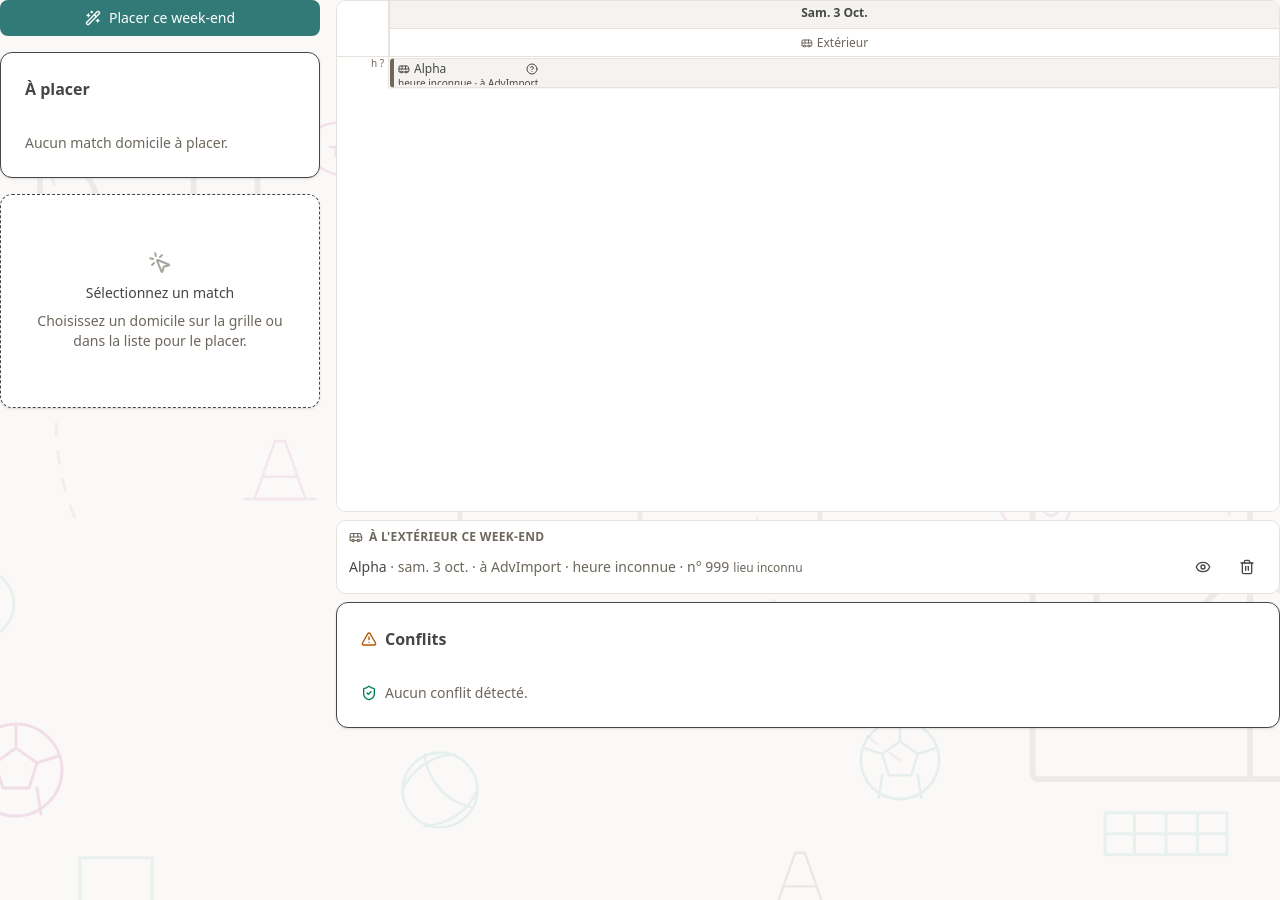
WeekWorkbench — clic sur un extérieur (correctif 3, lecture seule / édition) › extérieur IMPORTÉ (externalRef) → fiche LECTURE SEULE avec les temps, JAMAIS la modale d'édition
# On clique la CELLULE de la grille (`data-away`), pas la corbeille/crayon de la bande extérieur.
Click the button "Alpha heure inconnue · à AdvImport": (430, 68) [390,58,1279,88]
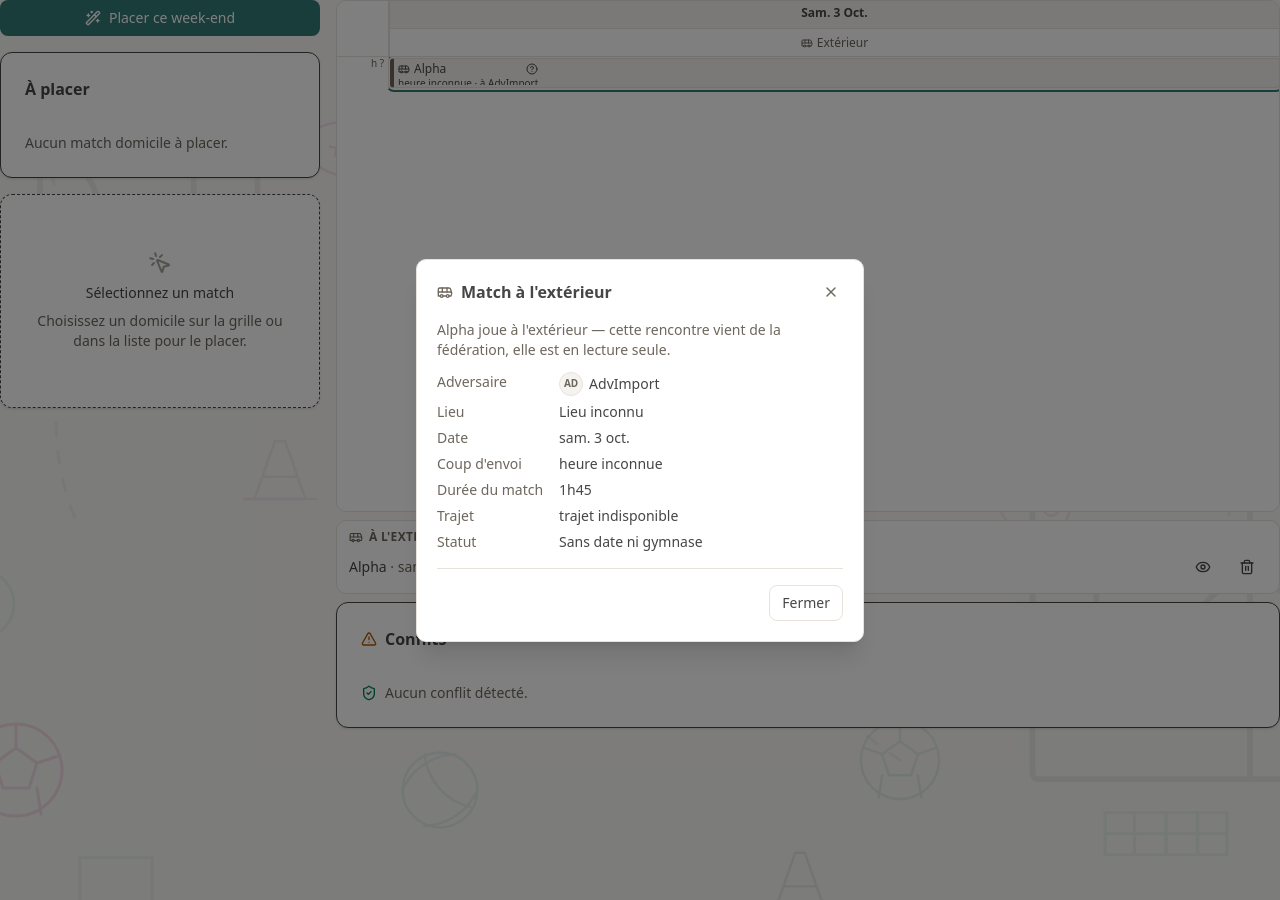
Expected: the text "Match à l'extérieur" is shown, [437,280,612,304]
Expected: the text "Durée du match" is shown, [437,480,543,500]
